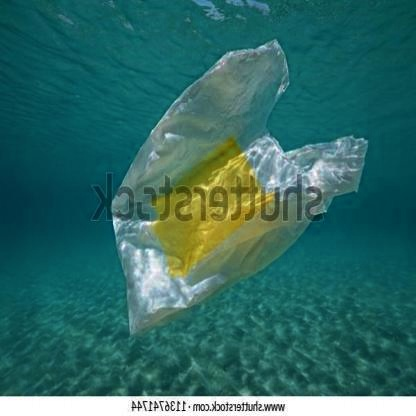pbag: (95, 34, 370, 342)
